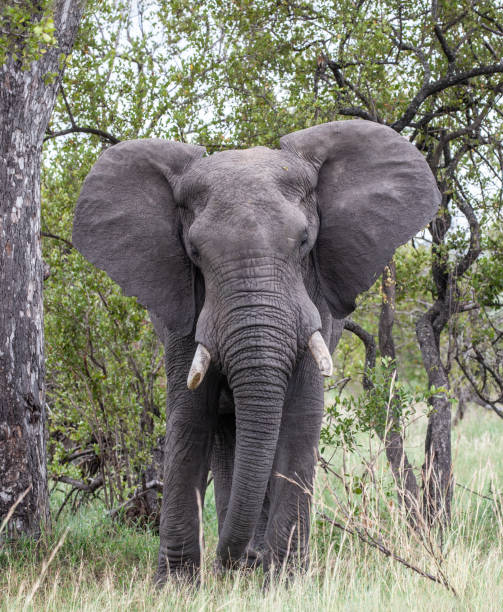africanelephant: (150, 148, 335, 436)
